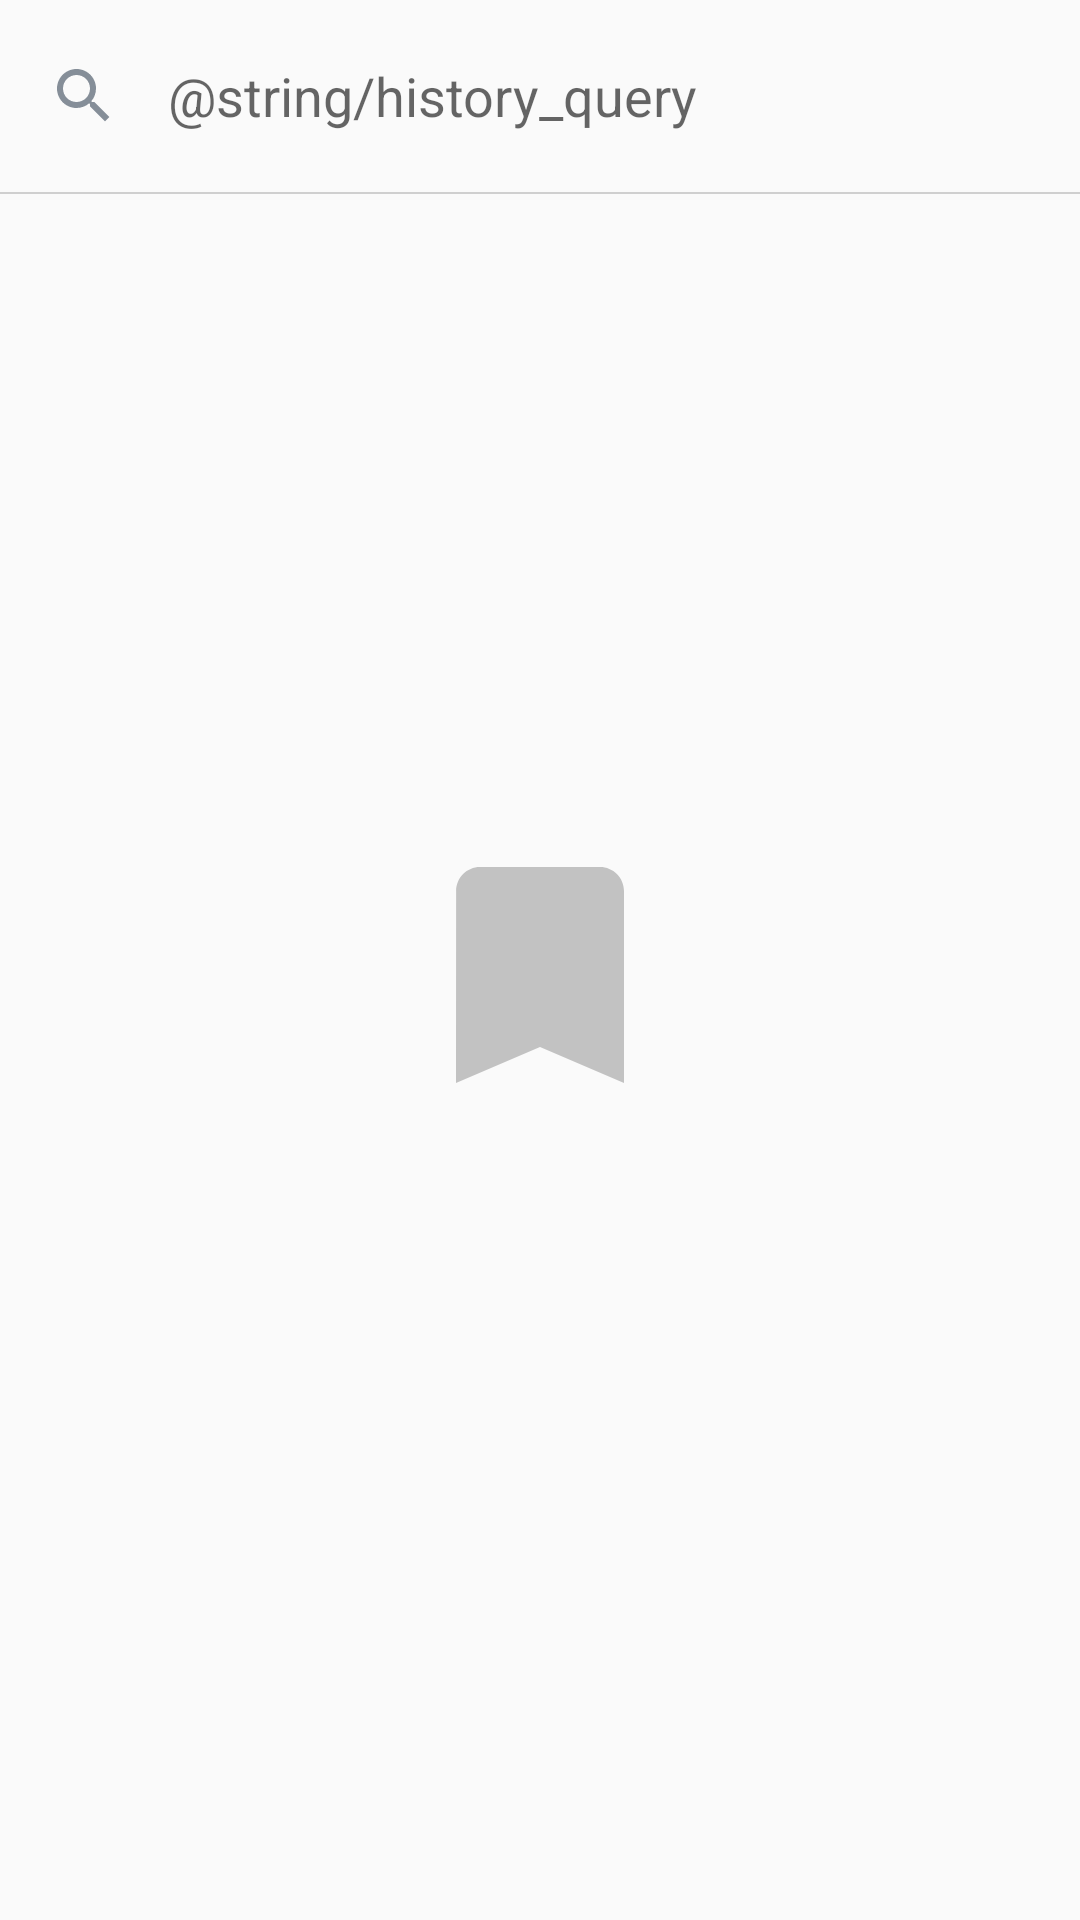

Icon bounding boxes for this 1080w x 1920h phone screenshot, format Rect(x1, y1, x2, y2):
bookmark: Rect(456, 867, 624, 1083)
